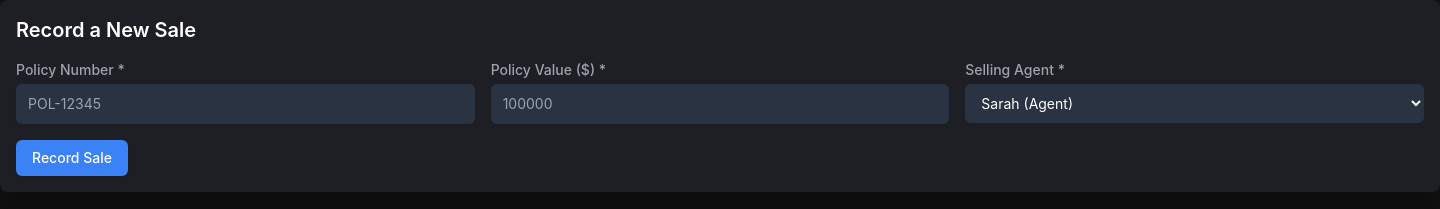
Test case: SalesForm Component › shows an error message if submission fails
The width and height of the screenshot is (1440, 209).
// Fill and submit
In the field labelled "Policy Number *": (245, 104) [16,84,475,124], type "POL-FAIL"
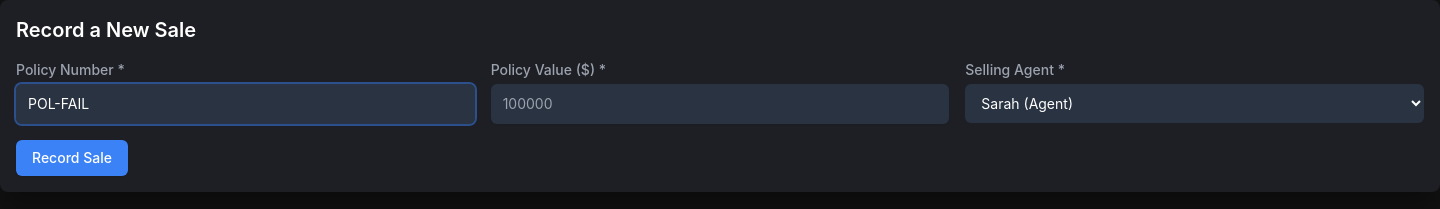
In the number field labelled "Policy Value ($) *": (720, 104) [491,84,949,124], type "1000"
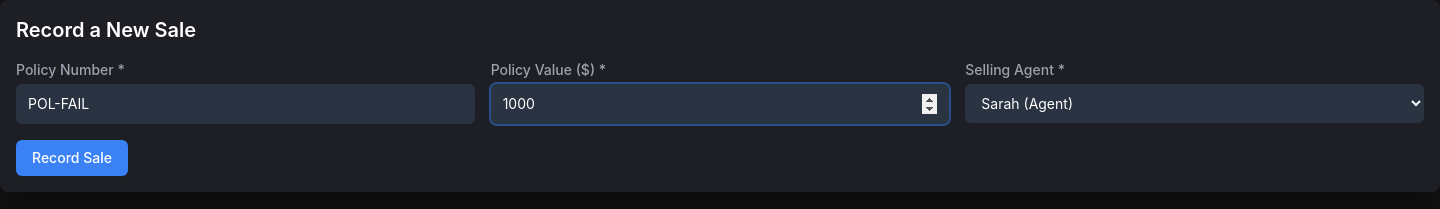
Click the button "Record Sale": click(72, 158) [16,140,128,176]
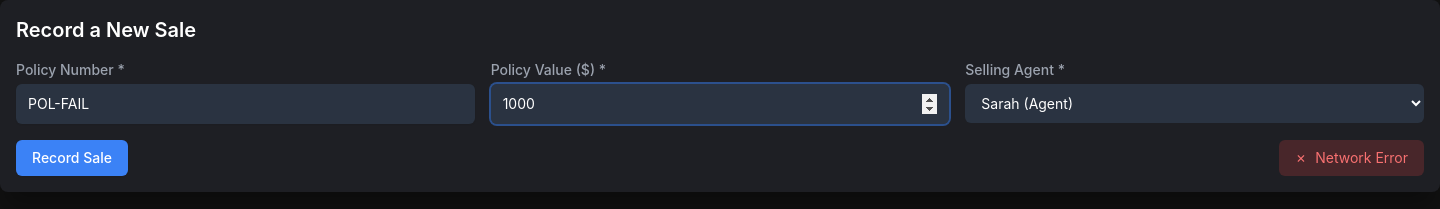
Now the text "Network Error" is shown, box [1315,148,1408,168]
